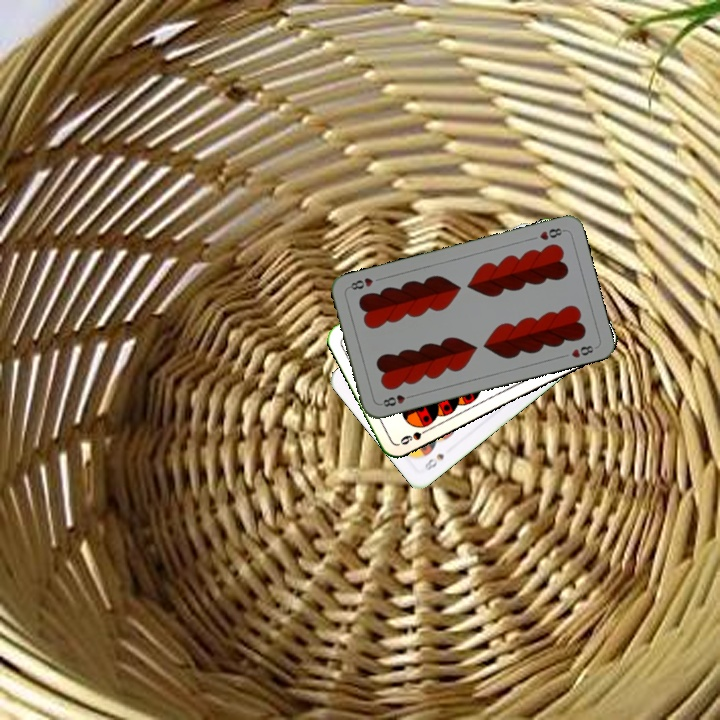H8: (376, 390, 416, 409), (535, 224, 567, 243)
S8: (421, 449, 447, 473)
S9: (396, 423, 434, 447)
